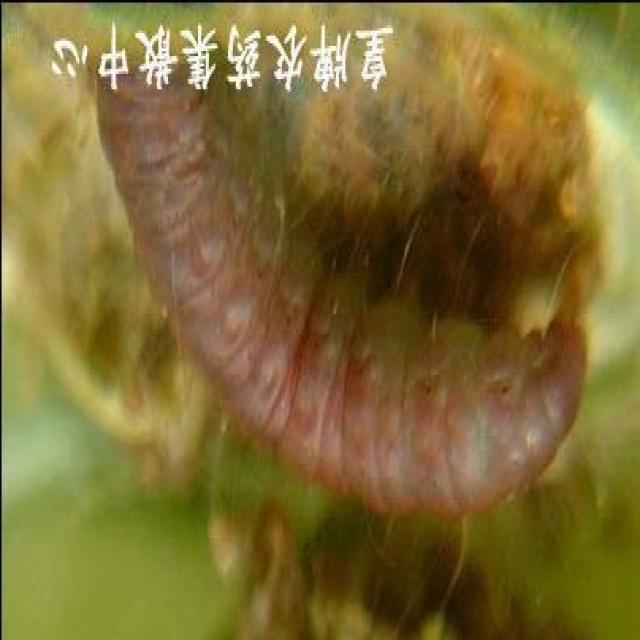peach borer: (92, 70, 579, 529)
